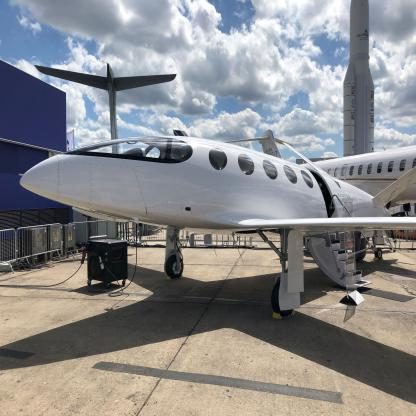CIV_Plane: (12, 131, 416, 320)
